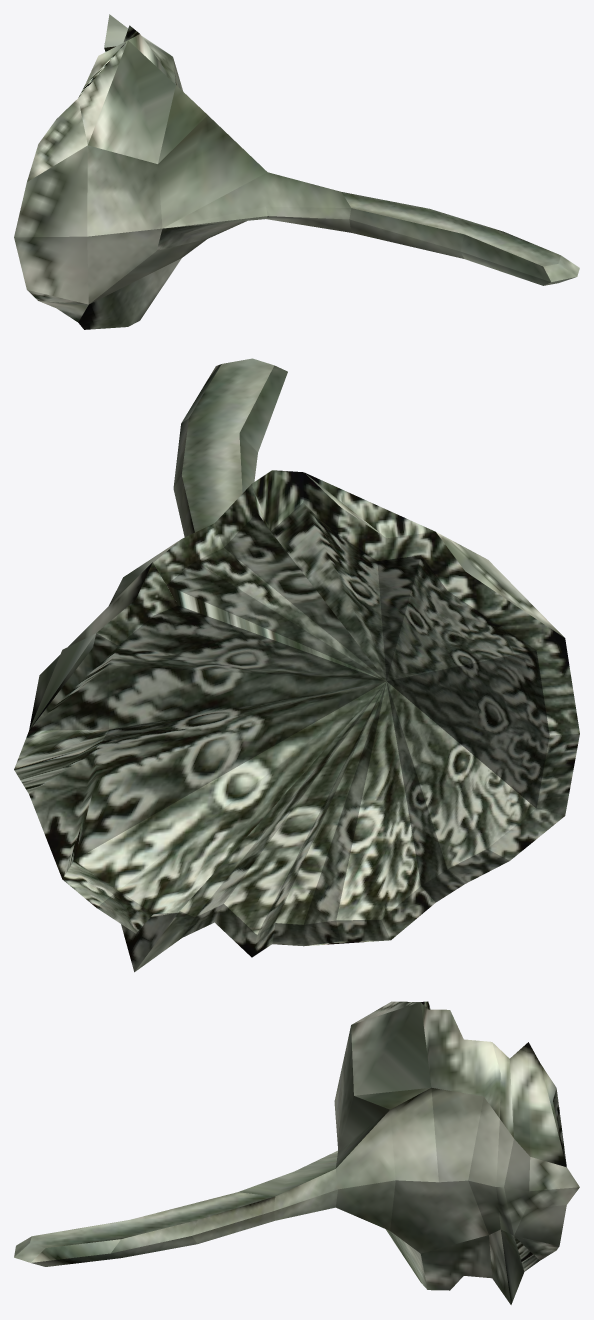
File: lychen-segment-trumpet-wide.fbx
3 renders of one model, top to bottom at view 1: azimuth 30°, elevation 25°; view 2: azimuth 150°, elevation 25°; view 3: azimuth 270°, elevation 25°, orthographic. The views are drawn at different scales.
Parts seen in each view (by area): view 1: lychen_segment_trumpet_wide; view 2: lychen_segment_trumpet_wide; view 3: lychen_segment_trumpet_wide.
Part boxes in pixels (x1,y1,x2,y2): lychen_segment_trumpet_wide: [14, 14, 579, 329]; lychen_segment_trumpet_wide: [14, 358, 579, 972]; lychen_segment_trumpet_wide: [14, 1001, 579, 1304].
Bounding box in the file's own units: 13.18 × 9.18 × 16.79.
